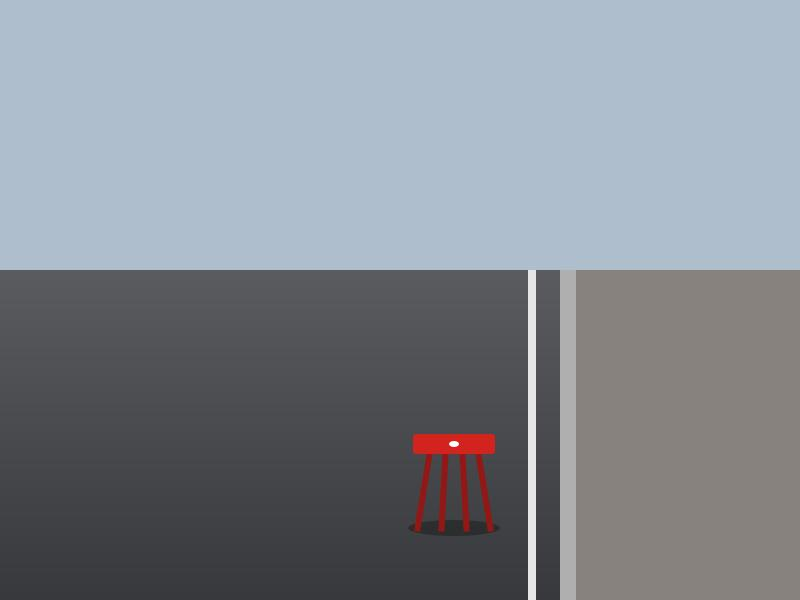ROAD_OBSTACLE: (413, 434, 495, 528)
